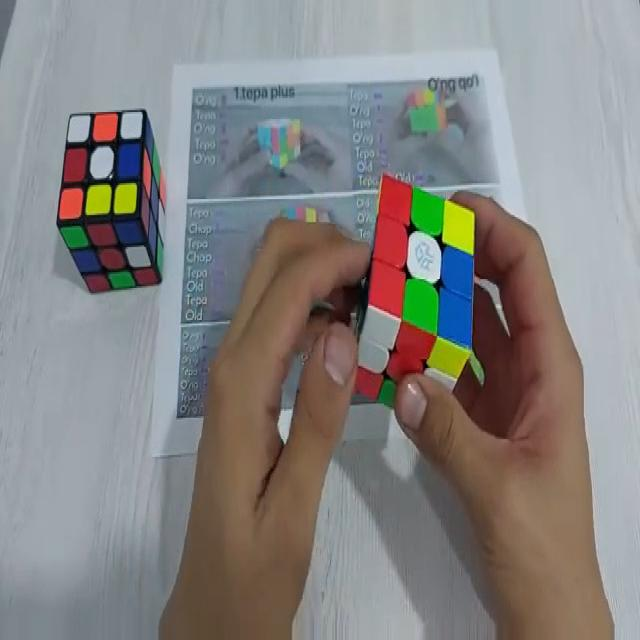Rub: (358, 175, 476, 392), (58, 107, 163, 296)
